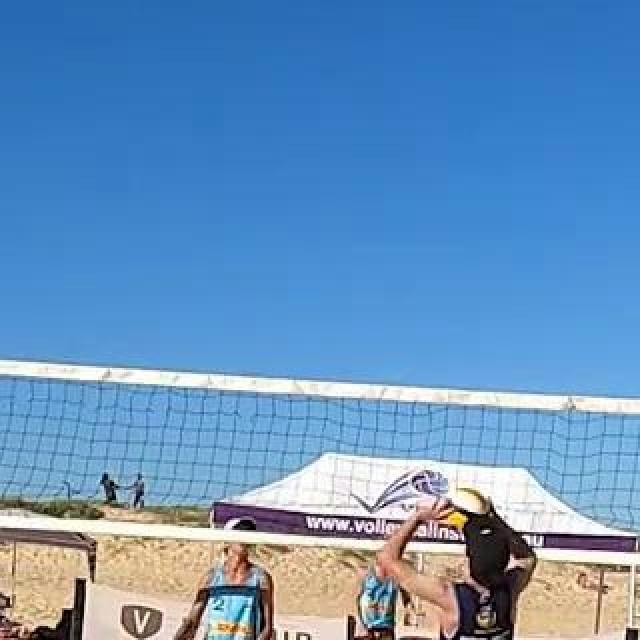volleyball: (438, 485, 492, 531)
